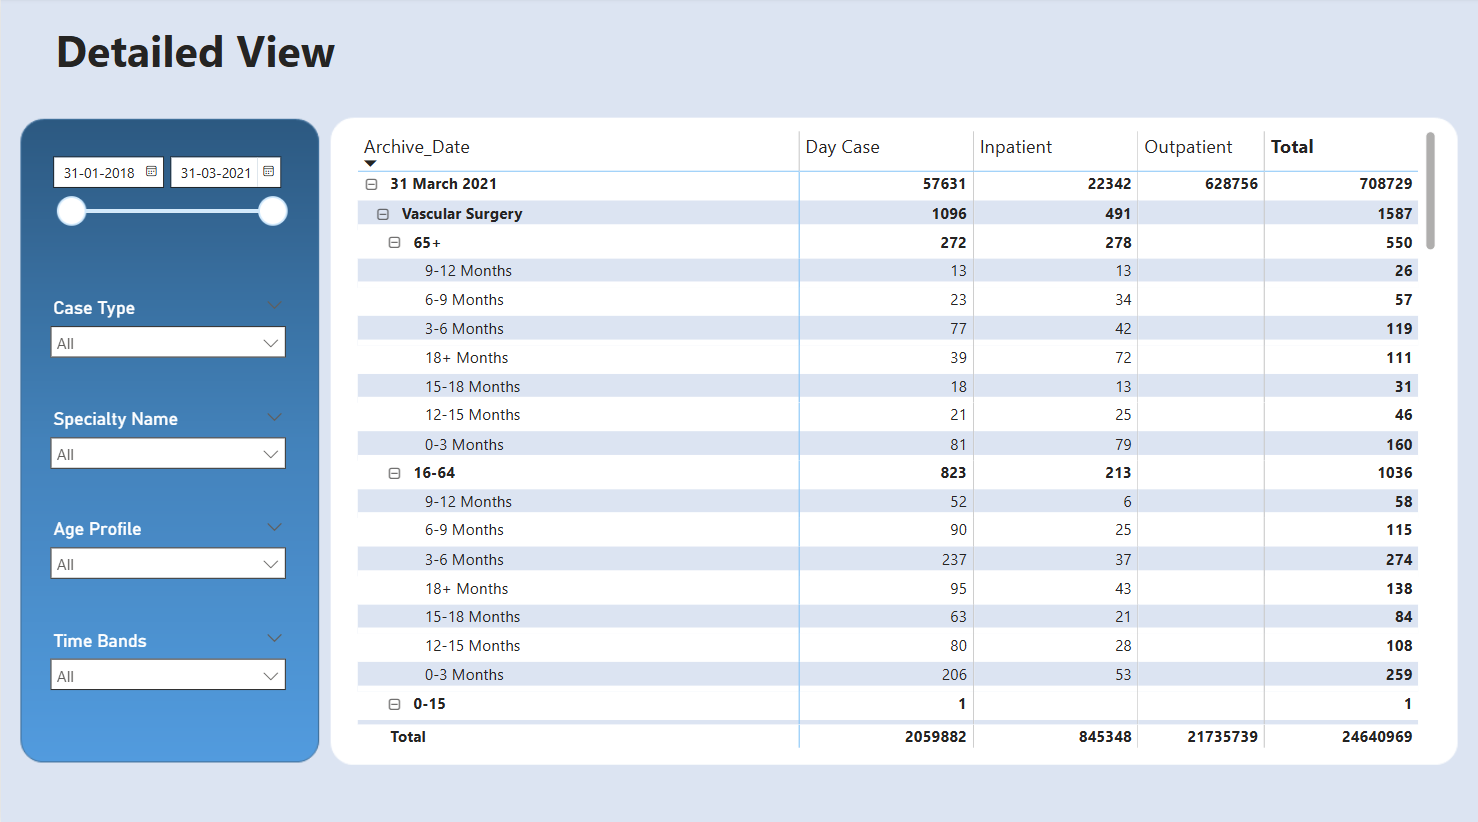

What the dashboard file says about the page in this screenshot:
{"tool":"powerbi","page":{"name":"Detail","canvas":[1280,720],"ordinal":1},"visuals":[{"type":"slicer","fields":{"Values":["All Data.Archive_Date"]},"box":[32,128,224,112],"z":0},{"type":"slicer","fields":{"Values":["All Data.Case_Type"]},"box":[32,256,224,80],"z":1000},{"type":"slicer","fields":{"Values":["All Data.Specialty_Name"]},"box":[32,352,224,80],"z":2000},{"type":"textbox","box":[16,16,304,64],"z":3000},{"type":"slicer","fields":{"Values":["All Data.Age_Profile"]},"box":[32,448,224,80],"z":4000},{"type":"slicer","fields":{"Values":["All Data.Time_Bands"]},"box":[32,544,224,80],"z":5000},{"type":"pivotTable","fields":{"Rows":["All Data.Archive_Date","All Data.Specialty_Name","All Data.Age_Profile","All Data.Time_Bands"],"Columns":["All Data.Case_Type"],"Values":["Sum(All Data.Total)"]},"box":[304,112,944,544],"z":6000}]}

Visuals, with their boxes in screenshot pixels (x1, y1, x2, y2), scaled from the page's 1280x720 canvas onto the 1478x822 screenshot:
slicer - All Data.Archive_Date: l=37, t=146, r=296, b=274
slicer - All Data.Case_Type: l=37, t=292, r=296, b=384
slicer - All Data.Specialty_Name: l=37, t=402, r=296, b=493
textbox: l=18, t=18, r=370, b=91
slicer - All Data.Age_Profile: l=37, t=511, r=296, b=603
slicer - All Data.Time_Bands: l=37, t=621, r=296, b=712
pivotTable - All Data.Archive_Date x All Data.Specialty_Name: l=351, t=128, r=1441, b=749
